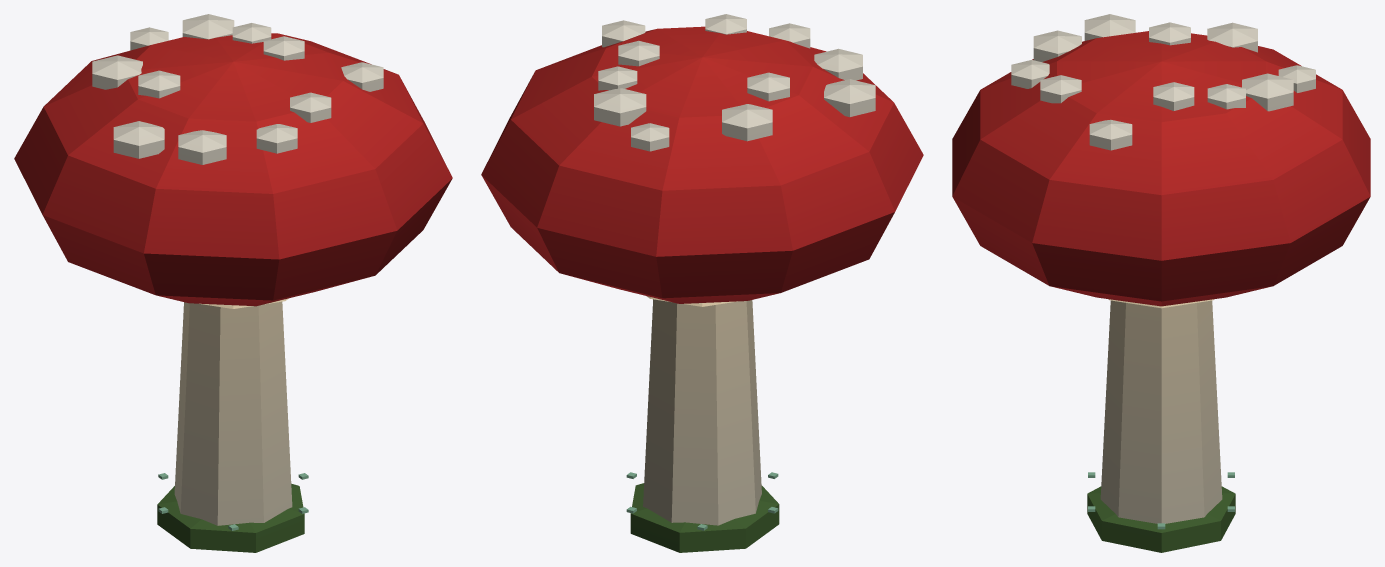
File: toadstool_giant.glb
3 renders of one model, left to right at view 1: azimuth 30°, elevation 25°; view 2: azimuth 150°, elevation 25°; view 3: azimuth 270°, elevation 25°, orthographic.
Visible parts, largest first — view 1: toadstool_giant; view 2: toadstool_giant; view 3: toadstool_giant.
Part boxes in pixels (x1=…): toadstool_giant: x1=14, y1=14, x2=452, y2=552; toadstool_giant: x1=481, y1=14, x2=923, y2=552; toadstool_giant: x1=952, y1=14, x2=1370, y2=552.
Size of the model in its own units: 3 by 3.55 by 2.85.
